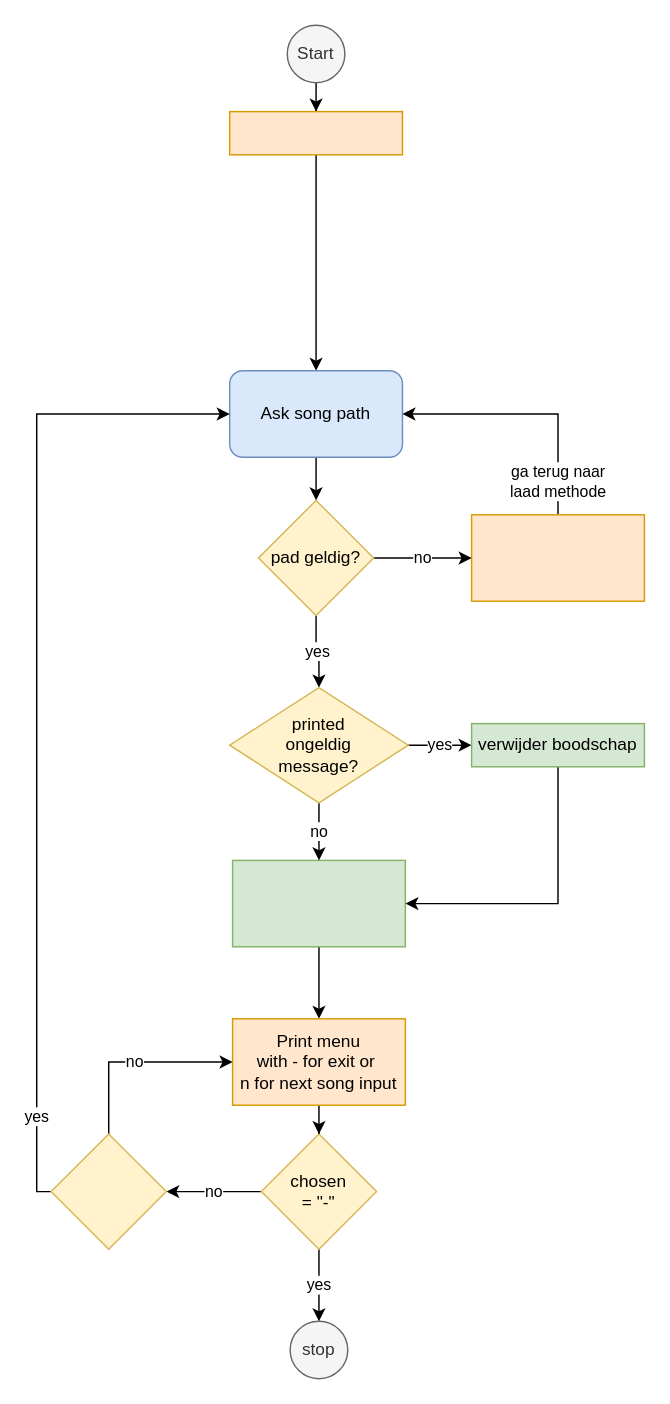
This 670x1404 diagram has some shape labels left out. The shapes that lost their labels are listed below. From the top down, each one's box as (x1, y1, x2, y2) in pixels, then its label:
(228, 110, 402, 155): Print title
(470, 513, 644, 601): Print pad is ongeldig
(231, 859, 405, 947): play loaded song
(50, 1133, 166, 1249): chosen = "n"
